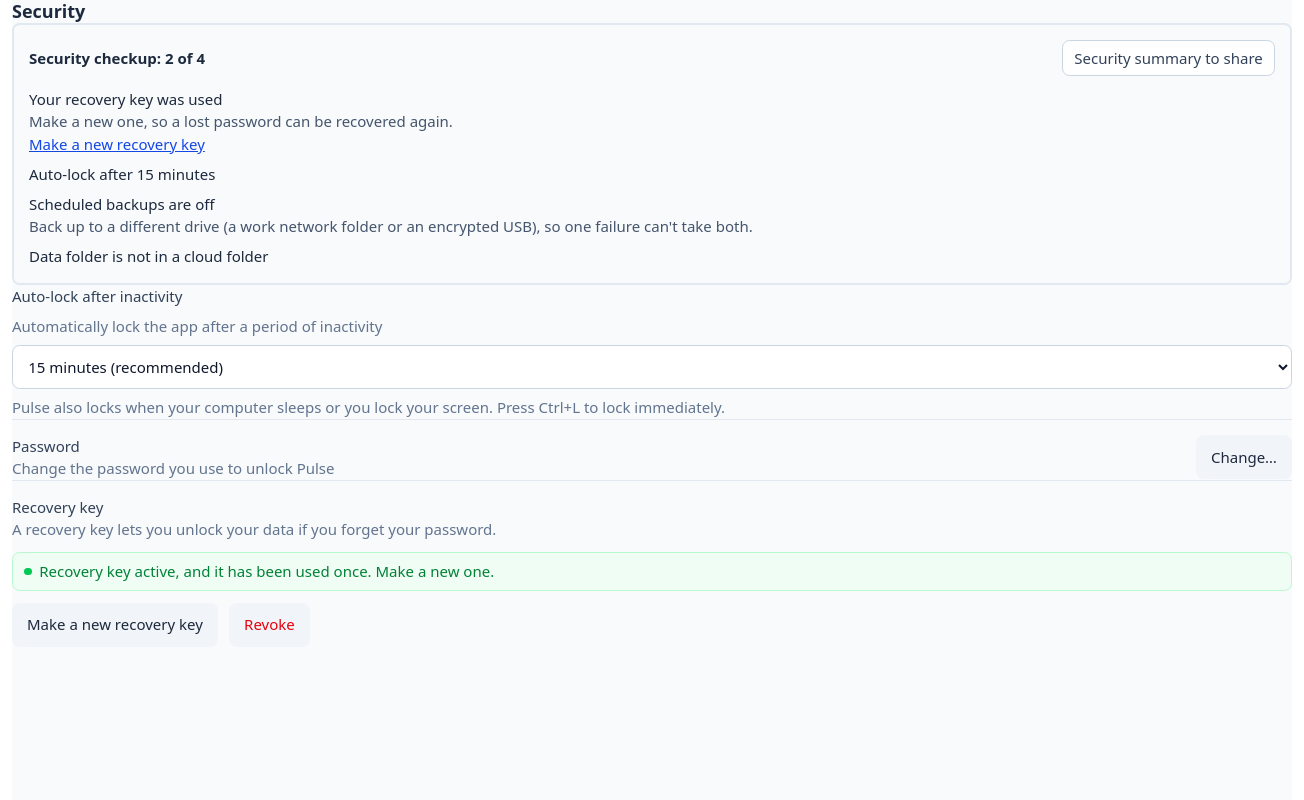
Test case: SecuritySection — a used recovery key (persona study #19) › nudges for a new key, and the checkup button opens the new-key form
expect the text "Your recovery key was used" is shown: met, box top-left (29, 89), bottom-right (222, 109)
expect the text "it has been used once. Make a new one." is shown: met, box top-left (39, 561), bottom-right (494, 581)
The checkup's button (the recovery key section has one too)
Click the button "Make a new recovery key" below "Your recovery key was used": (117, 144) top-left (29, 133), bottom-right (205, 155)
(page scrolled)
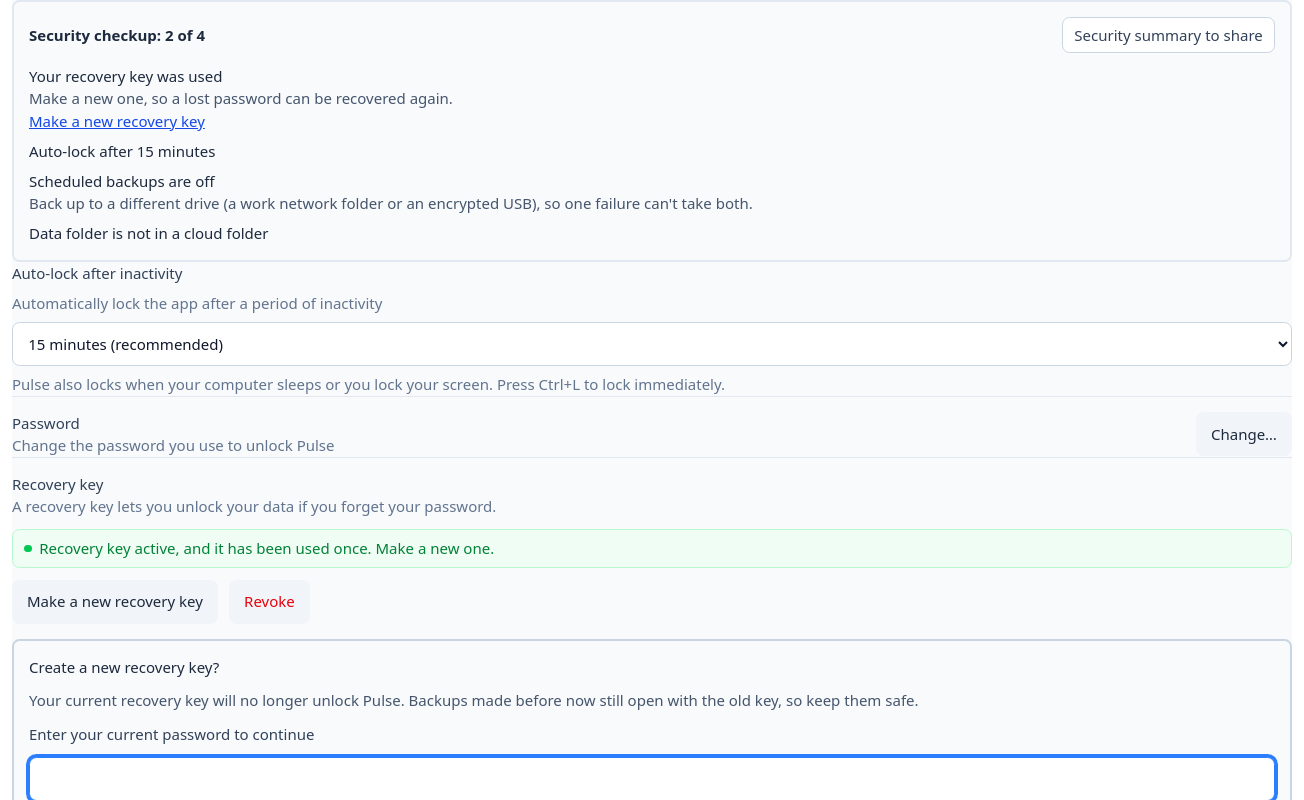
expect the text "Create a new recovery key?" is shown: met, box top-left (29, 657), bottom-right (219, 677)
